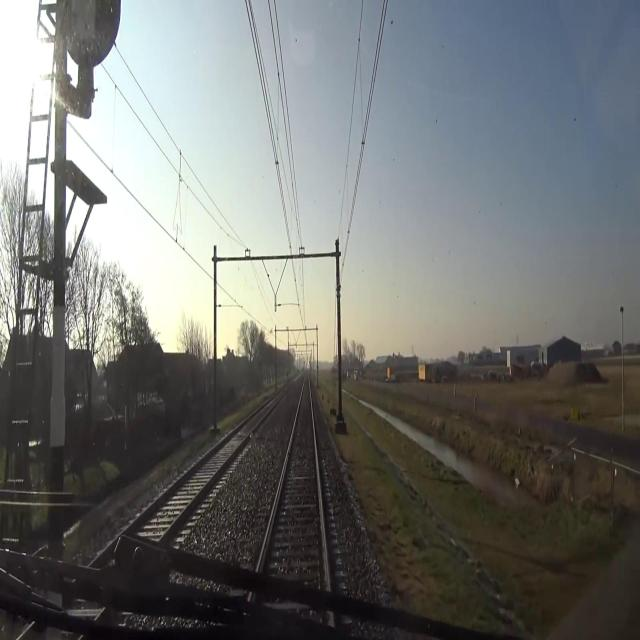rail-track: (89, 398, 276, 574), (260, 379, 327, 594)
